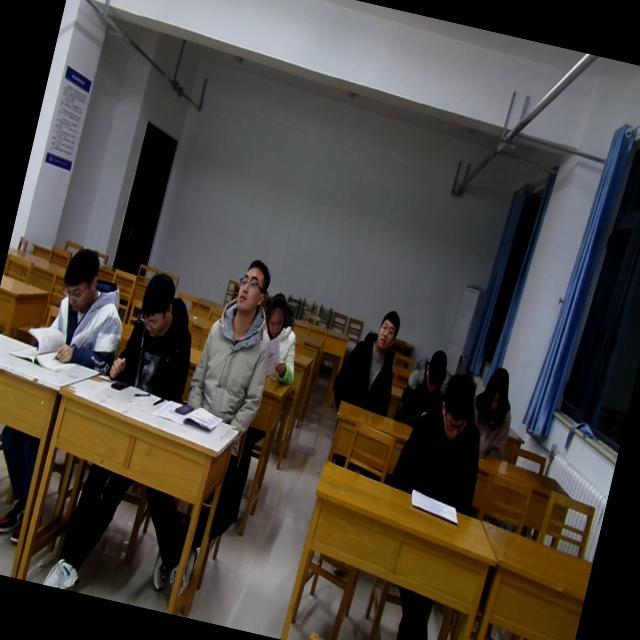bow: (392, 343, 461, 436)
down: (430, 366, 482, 448), (52, 240, 106, 317), (132, 264, 181, 340), (478, 358, 518, 417), (414, 342, 452, 402), (260, 284, 294, 340)
lookup: (228, 250, 276, 324), (370, 302, 405, 356)
sit: (178, 249, 294, 441), (387, 364, 501, 516), (104, 264, 210, 402), (39, 242, 137, 377), (326, 300, 412, 420), (248, 288, 313, 392), (461, 361, 524, 461)
